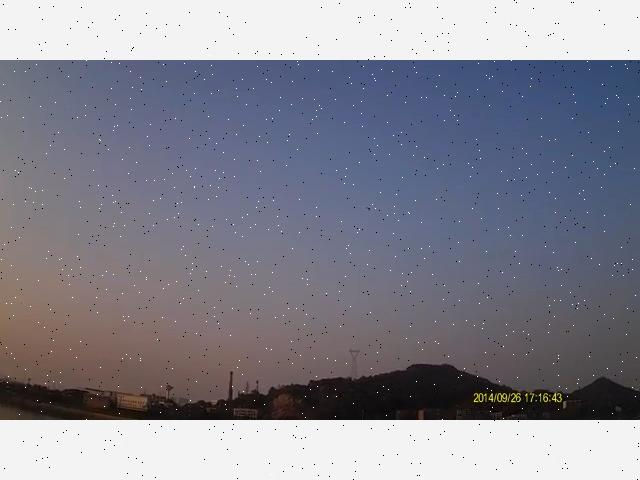Anti-Drone: (358, 199, 382, 219)
